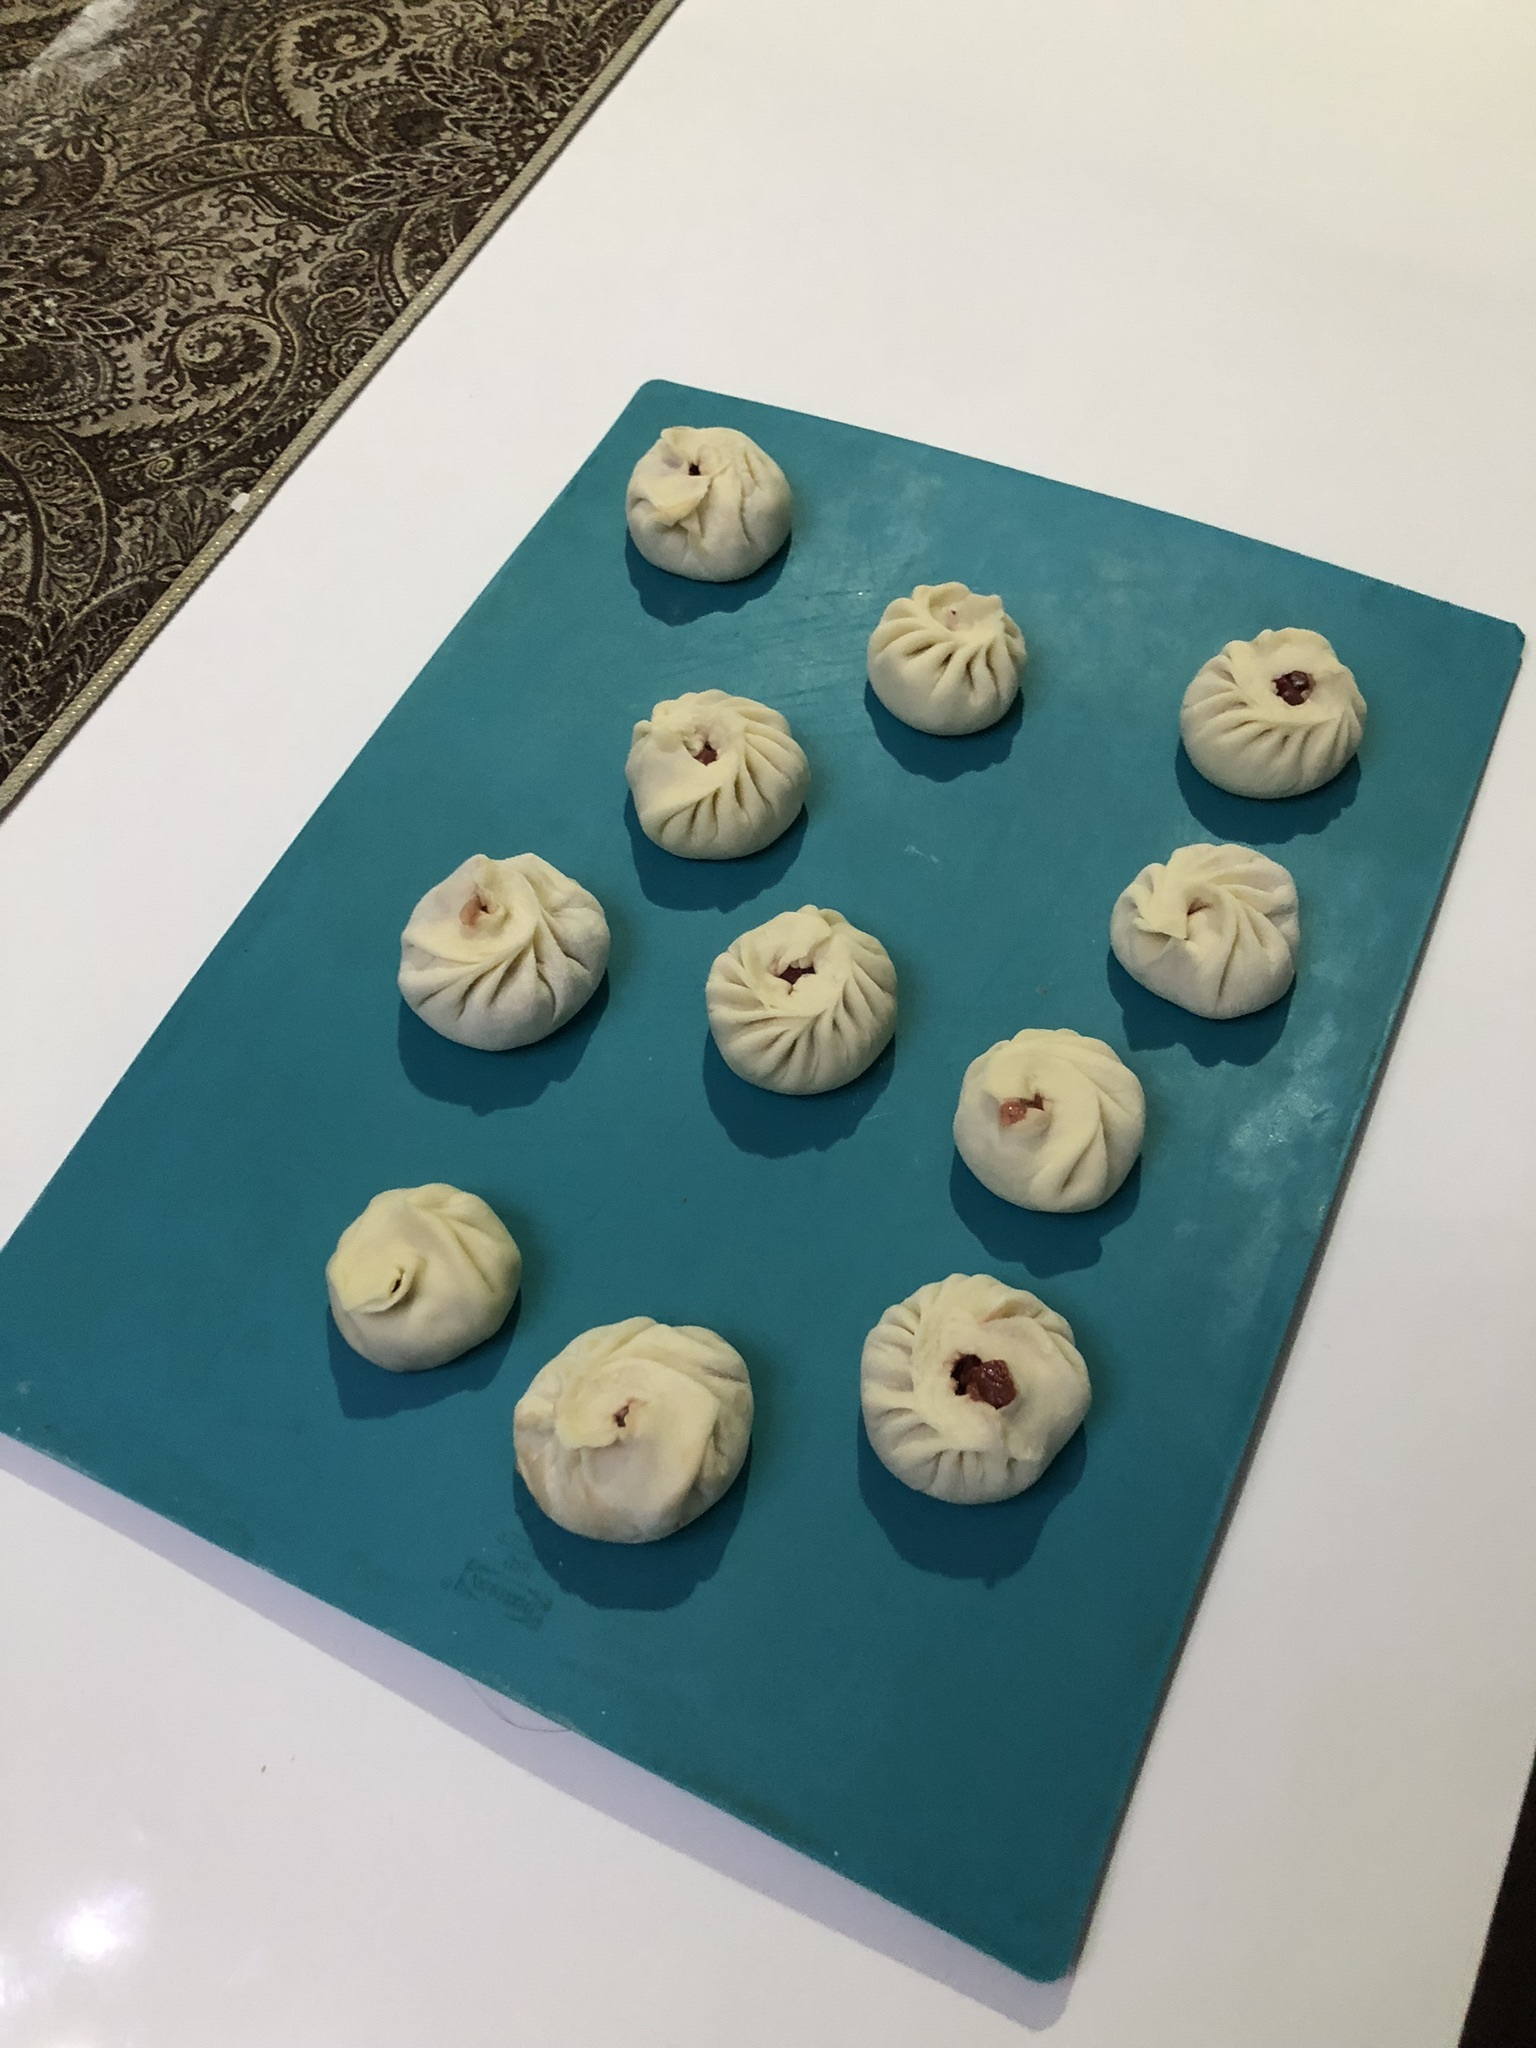buuz: (499, 1306, 765, 1551), (852, 1264, 1104, 1514), (394, 845, 616, 1064), (939, 1018, 1163, 1232), (315, 1176, 532, 1380), (697, 897, 907, 1106), (1100, 834, 1313, 1035), (1168, 619, 1379, 810), (616, 677, 820, 871), (615, 419, 803, 593), (855, 574, 1042, 748)
